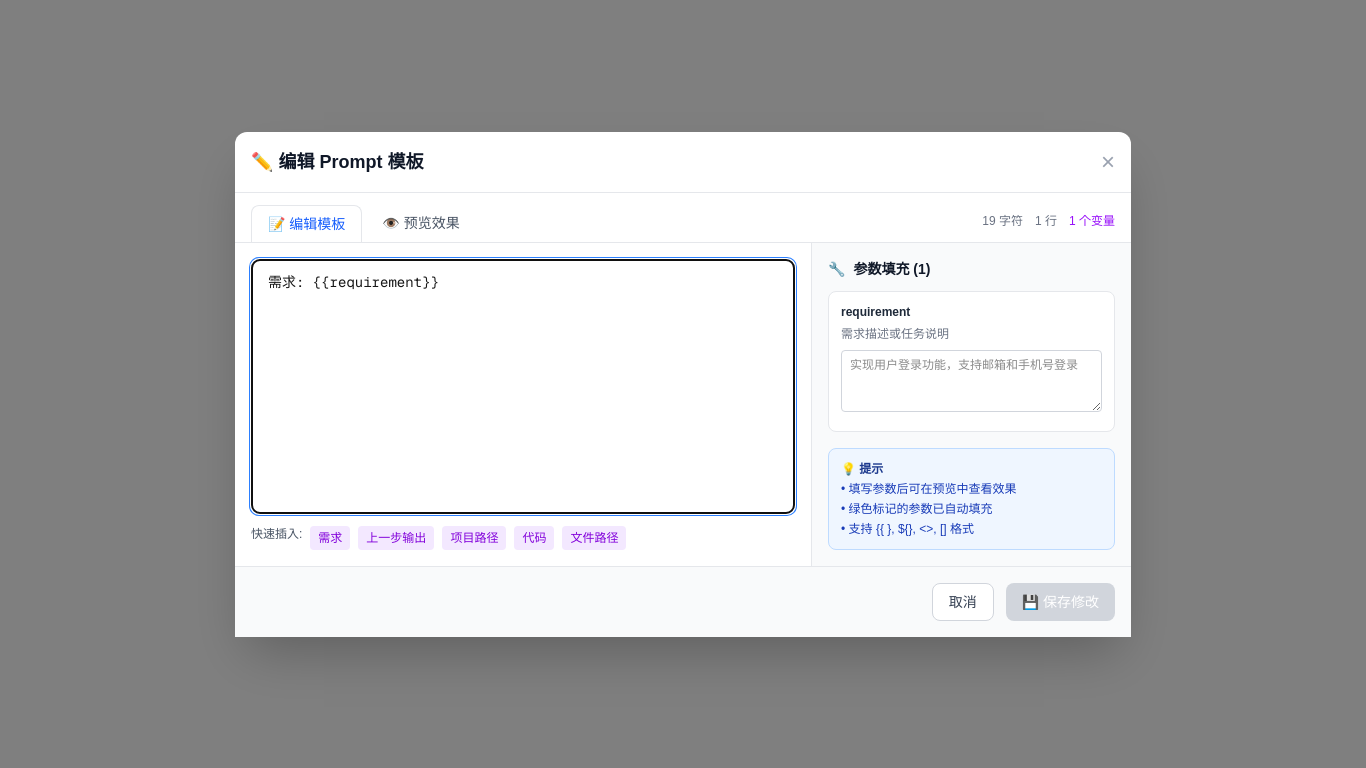
Test: PromptEditorModal › 有变量时预览应该渲染参数
The image size is (1366, 768).
In the text box with placeholder "实现用户登录功能，支持邮箱和手机号登录": [972, 380] box [841,350,1102,412], type "添加新功能"
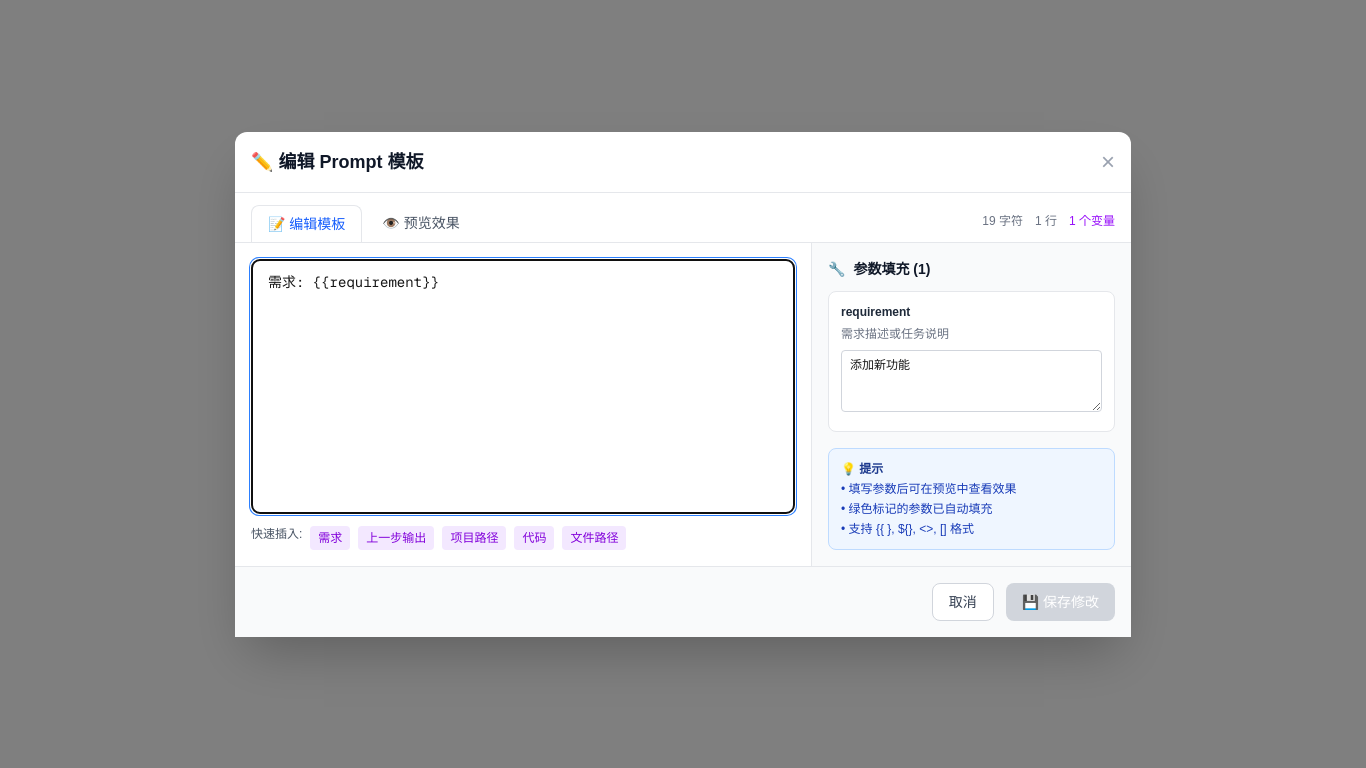
Click the button "👁️ 预览效果": [421, 223] box [366,205,476,241]
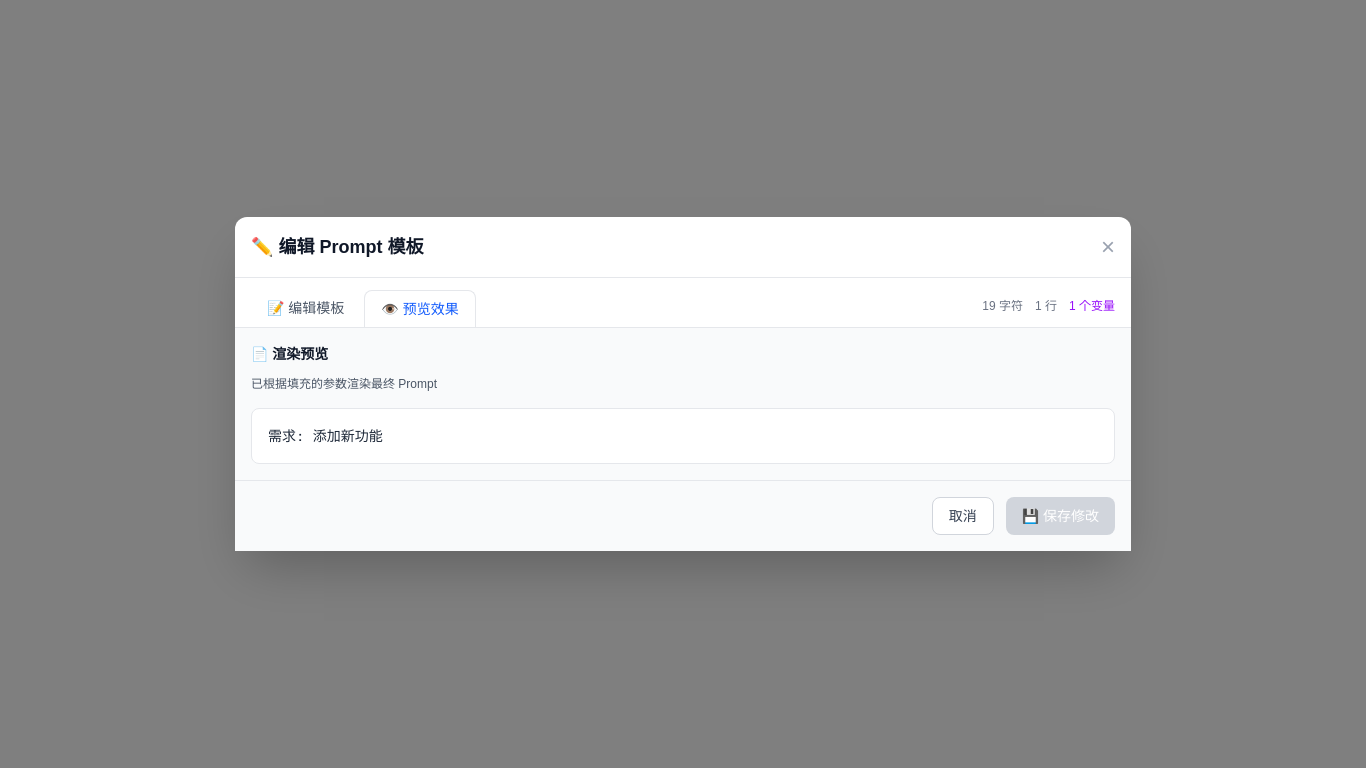
Check: the text "需求: 添加新功能" is shown, box [268,427,383,445]
